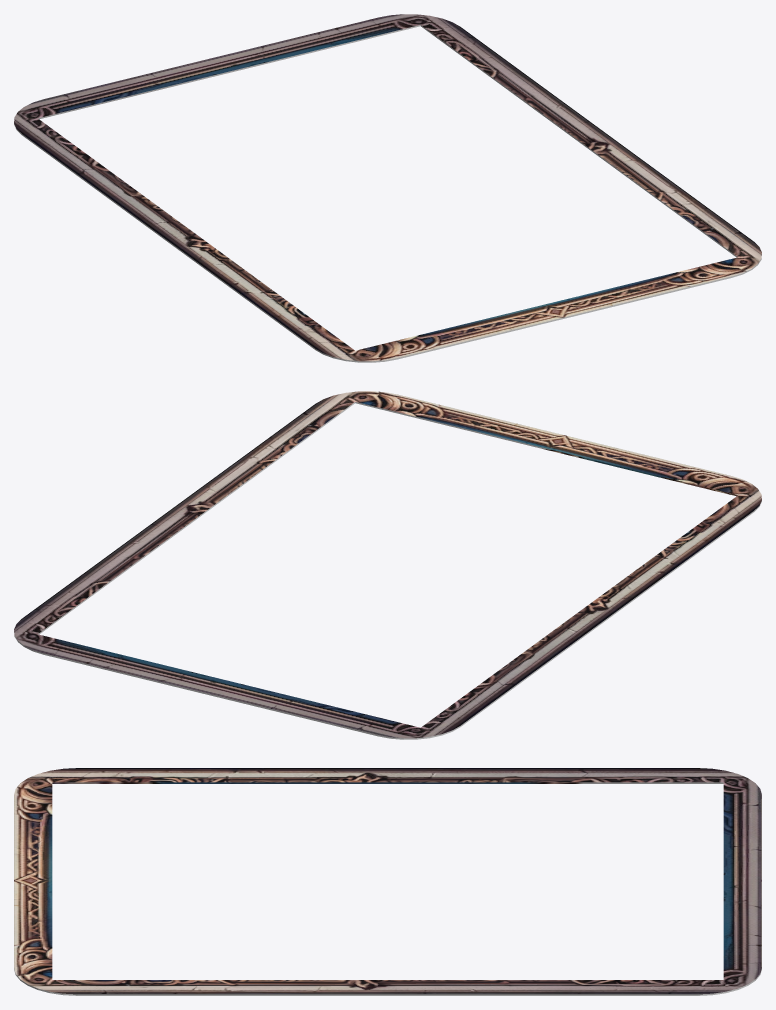
File: card_mark_tiny.fbx
The picture shows the model from 3 angles, top to bottom: view 1: azimuth 30°, elevation 25°; view 2: azimuth 150°, elevation 25°; view 3: azimuth 270°, elevation 25°; orthographic projection. The views are drawn at different scales.
Visible parts, largest first — view 1: Cube; view 2: Cube; view 3: Cube.
Part boxes in pixels (x1,y1,x2,y2): Cube: (14,14,761,362); Cube: (14,391,761,739); Cube: (14,768,761,995).
Bounding box in the file's own units: 126 × 0.4001 × 176.
